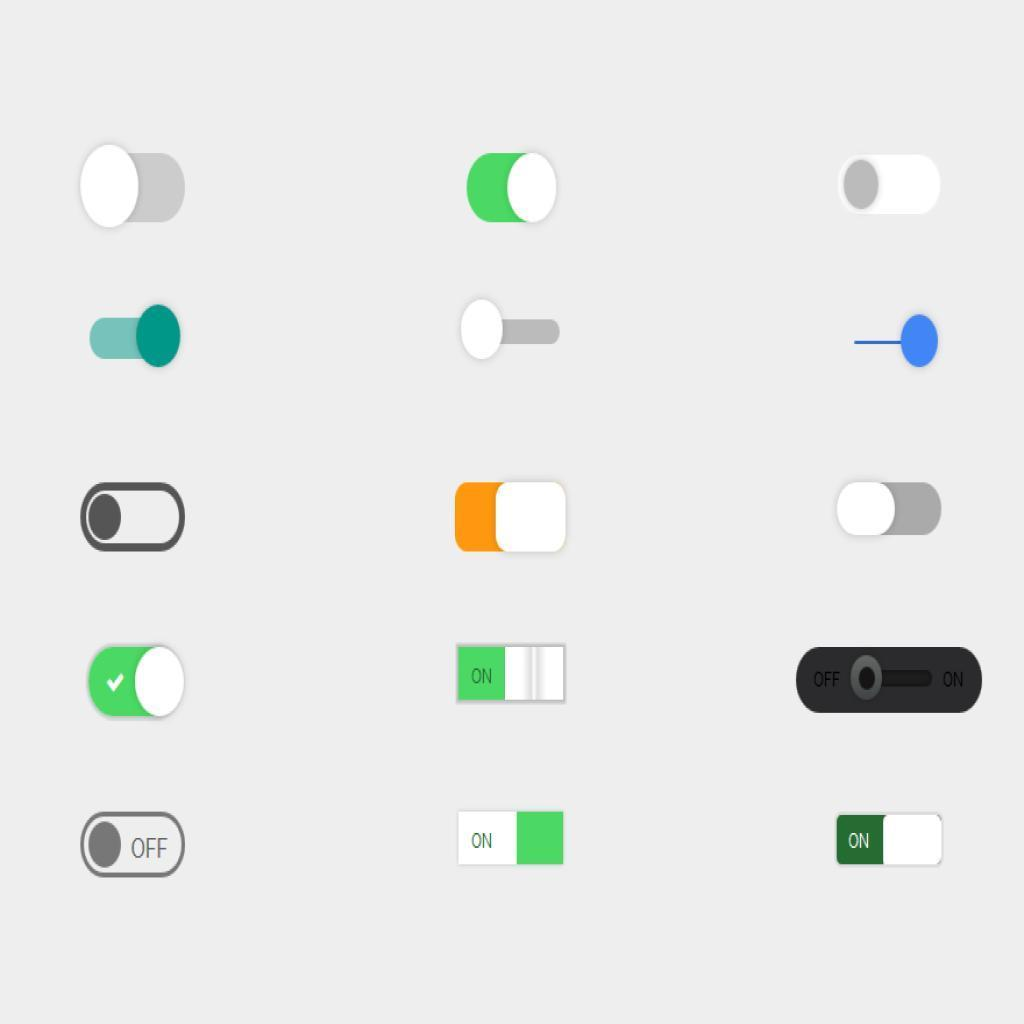switch: (798, 648, 983, 715), (73, 142, 193, 237), (456, 483, 568, 554), (80, 480, 186, 555), (88, 646, 187, 721), (80, 812, 186, 880), (459, 298, 561, 367), (466, 153, 560, 226), (458, 646, 568, 706), (839, 154, 943, 216), (86, 304, 183, 370), (838, 482, 944, 540), (458, 812, 567, 866), (835, 816, 944, 867), (852, 313, 940, 371)
